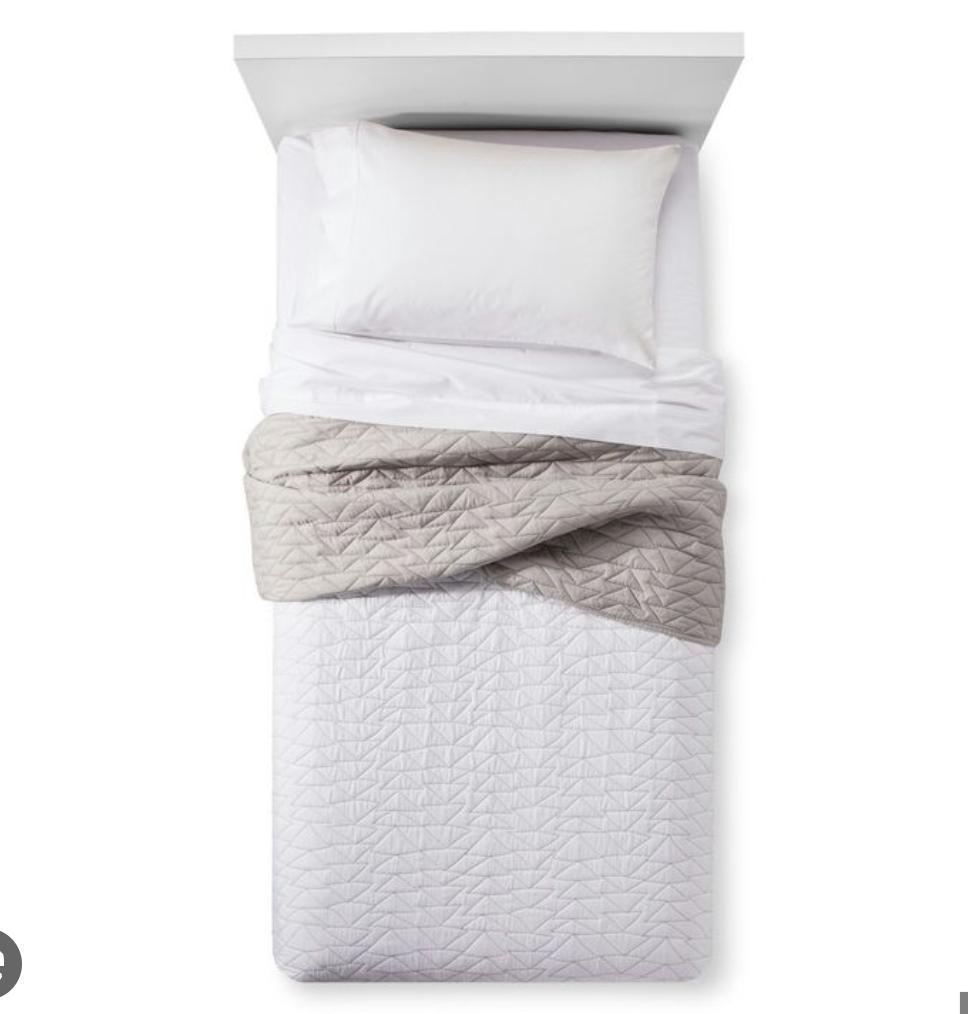Bed-Mattress: (222, 24, 758, 993)
